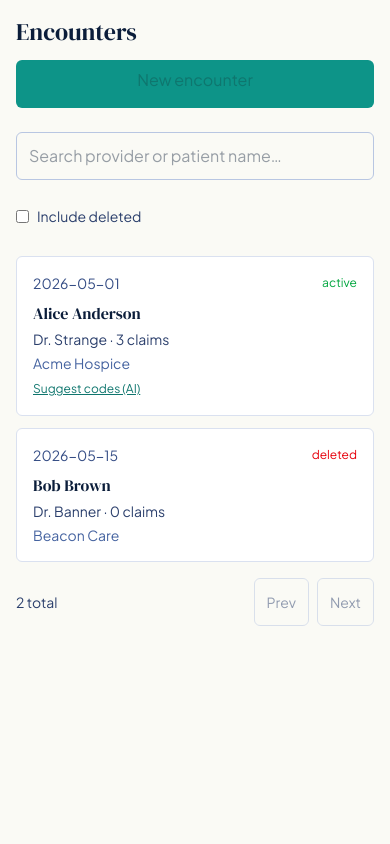
Test: EncountersList › opens the coding-suggestions modal and renders banner + suggestions
The image size is (390, 844).
Click the button "Suggest codes (AI)". click: {"x": 87, "y": 389}
box: left=33, top=381, right=140, bottom=397
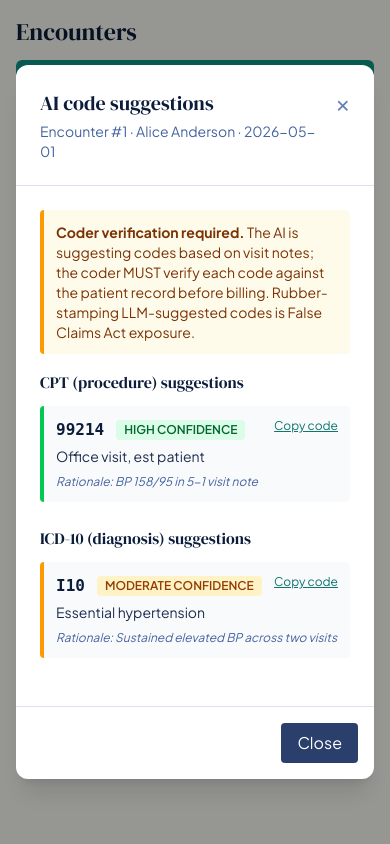
Expected: the dialog is shown
Expected: the text "99214" is shown, left=56, top=418, right=104, bottom=442
Expected: the text "I10" is shown, left=56, top=574, right=85, bottom=598
